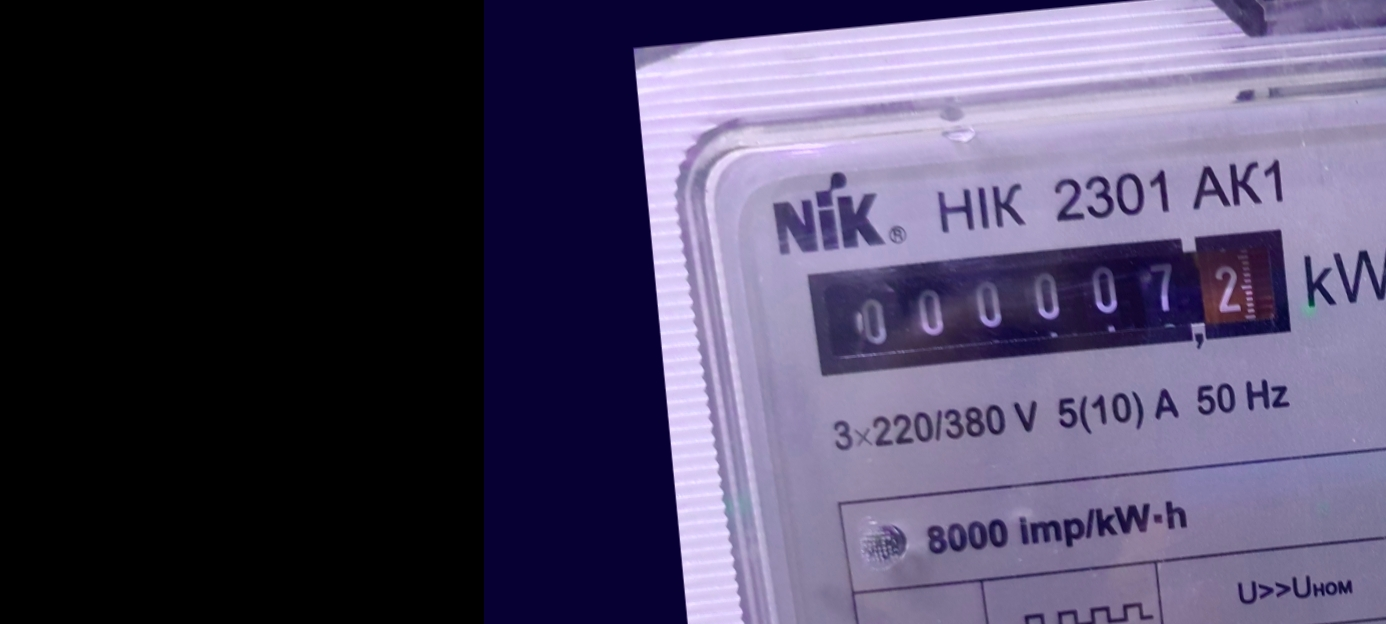0: (912, 283, 952, 338), (1087, 262, 1124, 318), (1030, 267, 1066, 323), (972, 275, 1008, 330), (857, 294, 893, 347)
2: (1212, 262, 1247, 316)
7: (1146, 258, 1181, 315)
screen: (790, 208, 1314, 397)
